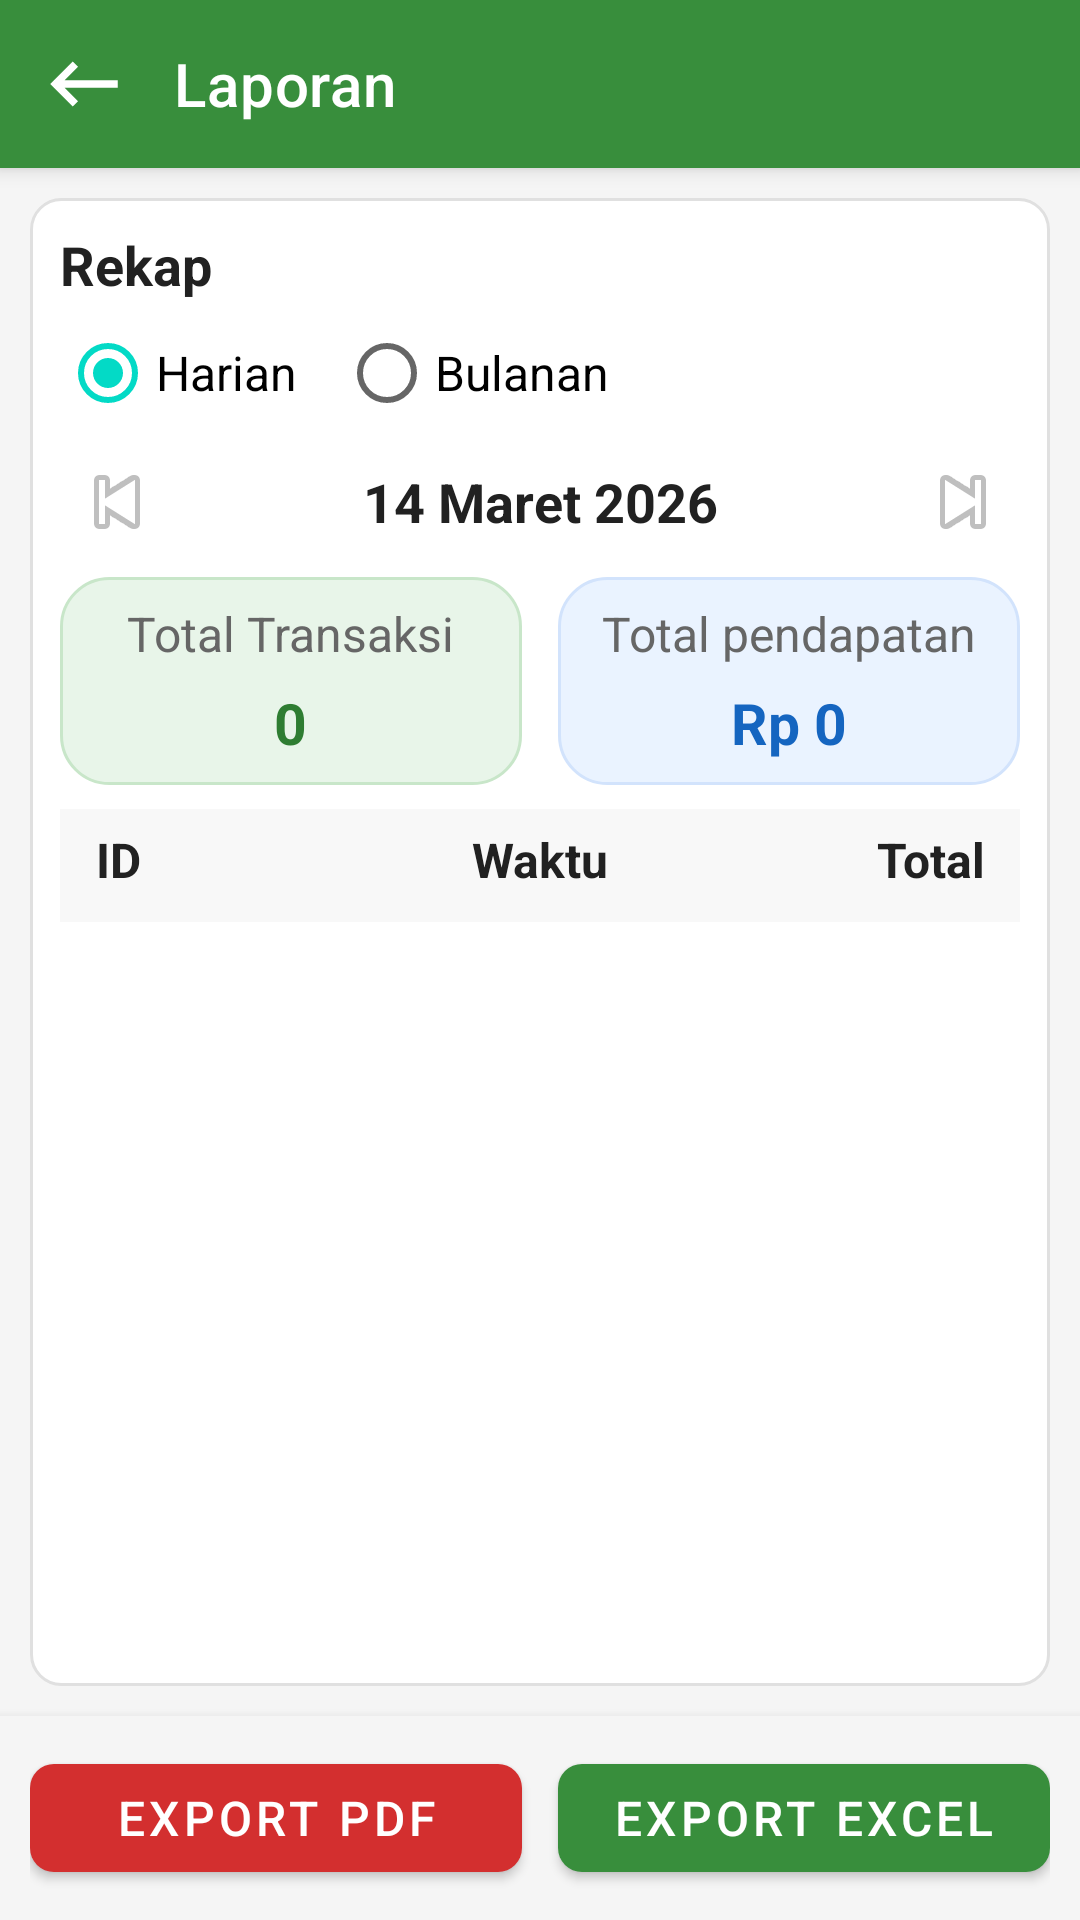

Screen size 1080*1920. Icon name, then its box in pixels as detection(x1, y1, x2, y2):
next: detection(940, 475, 986, 529)
previous: detection(94, 475, 140, 529)
